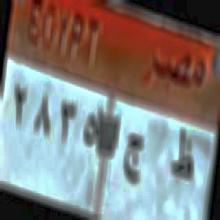2: (12, 83, 29, 132)
3: (59, 100, 78, 149)
5: (80, 109, 98, 156)
8: (32, 90, 54, 144)
Thaa: (170, 123, 194, 189)
jeem: (122, 132, 147, 190)
